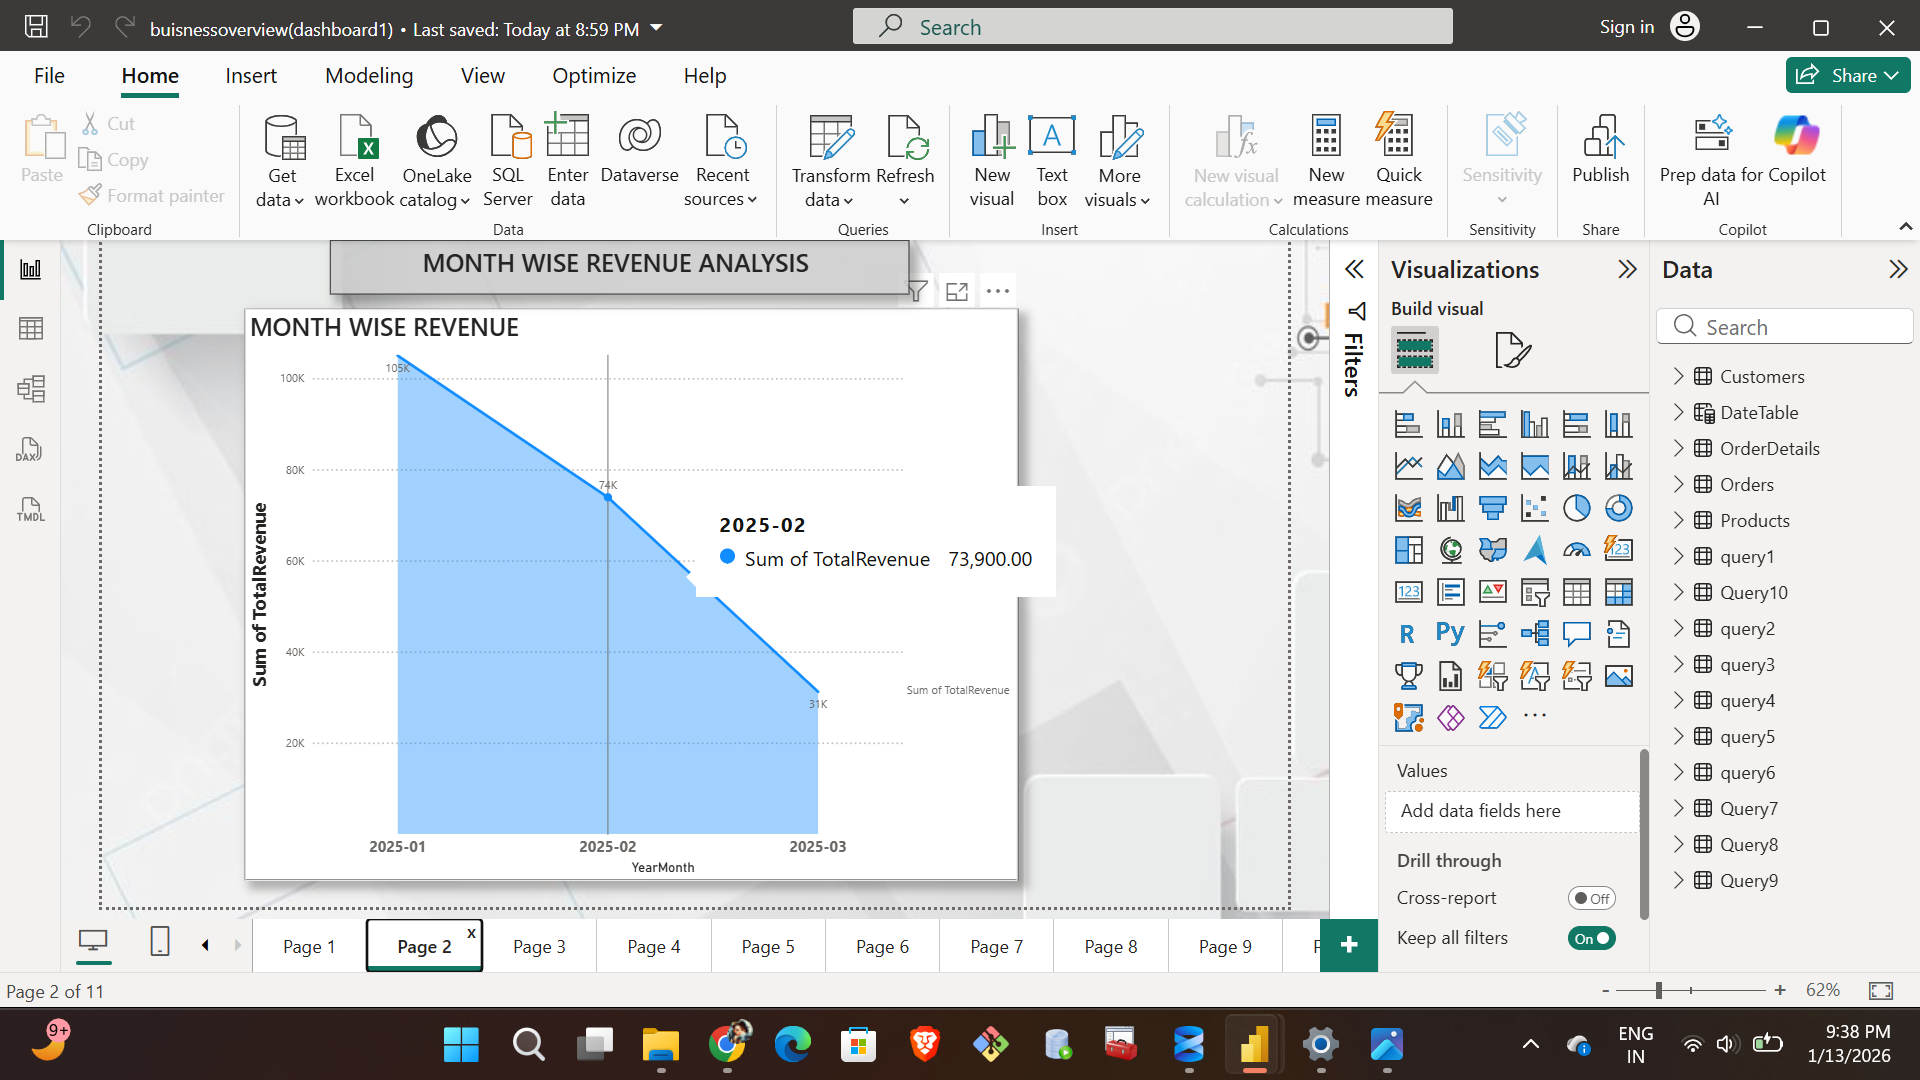

Layout of this report page (visuals, bound fields, positions):
{"tool":"powerbi","page":{"name":"Page 2","canvas":[1280,720],"ordinal":1},"visuals":[{"type":"areaChart","title":"MONTH WISE REVENUE","fields":{"Category":["query1.YearMonth"],"Y":["Sum(query1.TotalRevenue)"]},"box":[153.3,75,835,616.7],"z":0},{"type":"textbox","box":[246.7,0,625,58.3],"z":1}]}

Visuals, with their boxes on the page's 1280x720 design canvas (x1, y1, x2, y2). These are canvas units, not pixel positions in the 1920x1080 screenshot, which may show the page scaled, cropped or inside an application window:
"MONTH WISE REVENUE" areaChart: l=153, t=75, r=988, b=692
textbox: l=247, t=0, r=872, b=58
